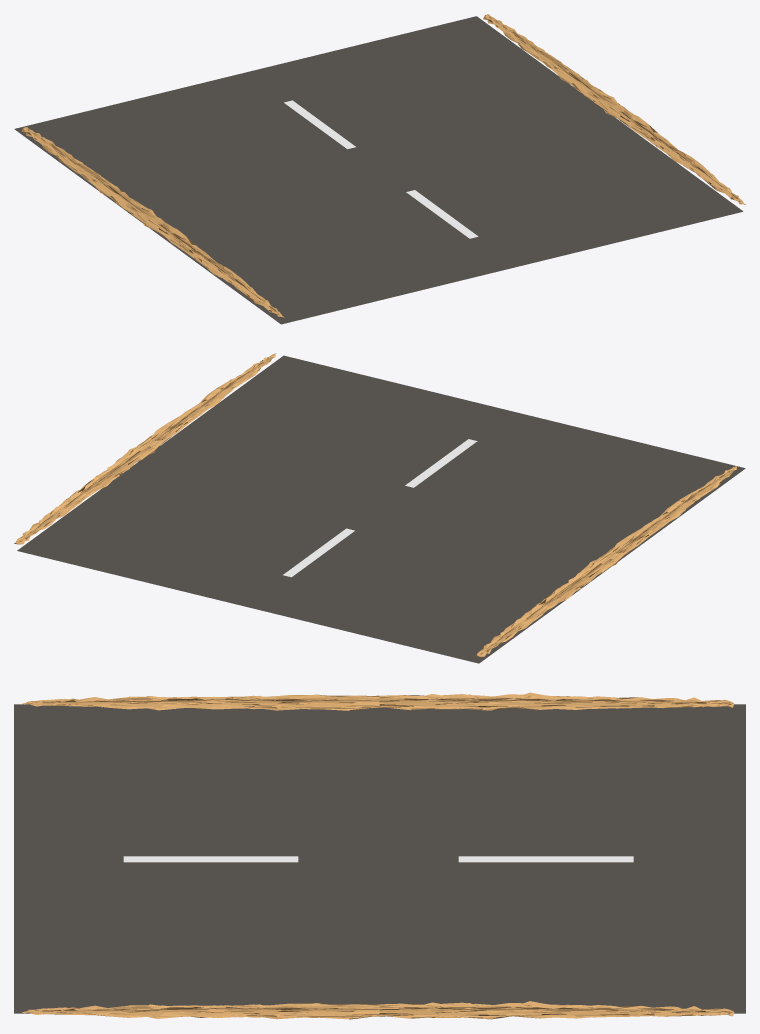
The model's file is Road.glb.
3 renders of one model, top to bottom at view 1: azimuth 30°, elevation 25°; view 2: azimuth 150°, elevation 25°; view 3: azimuth 270°, elevation 25°, orthographic. The views are drawn at different scales.
Parts seen in each view (by area): view 1: Plane, Leaves, Leaves.001, Plane.001, Plane.002; view 2: Plane, Leaves, Leaves.001, Plane.001, Plane.002; view 3: Plane, Leaves.001, Leaves, Plane.002, Plane.001.
Boxes of the visible parts, box(x1,y1,x2,y2) form: Plane: box(14, 16, 743, 324); Leaves: box(483, 14, 745, 204); Leaves.001: box(21, 127, 284, 317); Plane.001: box(406, 190, 478, 238); Plane.002: box(284, 100, 355, 149); Plane: box(17, 355, 745, 663); Leaves: box(14, 353, 275, 544); Leaves.001: box(475, 466, 736, 656); Plane.001: box(405, 439, 477, 487); Plane.002: box(283, 528, 354, 577); Plane: box(14, 704, 745, 1013); Leaves.001: box(22, 692, 734, 710); Leaves: box(22, 1001, 734, 1019); Plane.002: box(458, 856, 633, 862); Plane.001: box(123, 856, 298, 862).
Size of the model in its own units: 9.67 by 0.1615 by 9.34.
